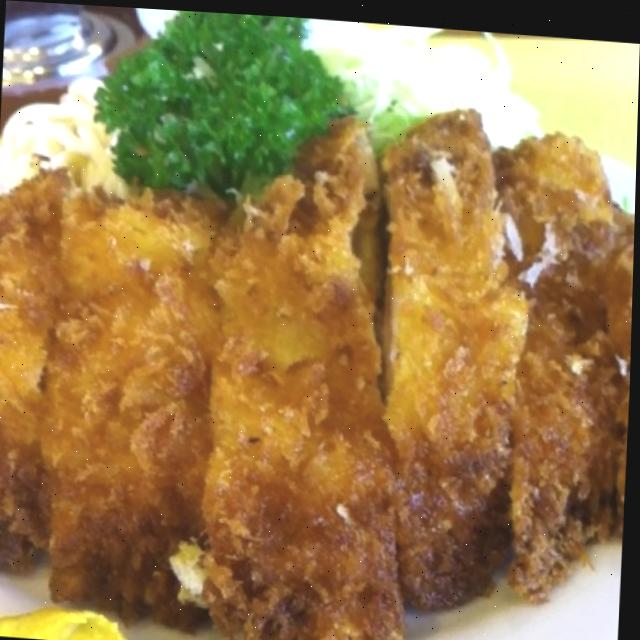鸡肉料理 含炸鸡: (0, 7, 640, 640)
